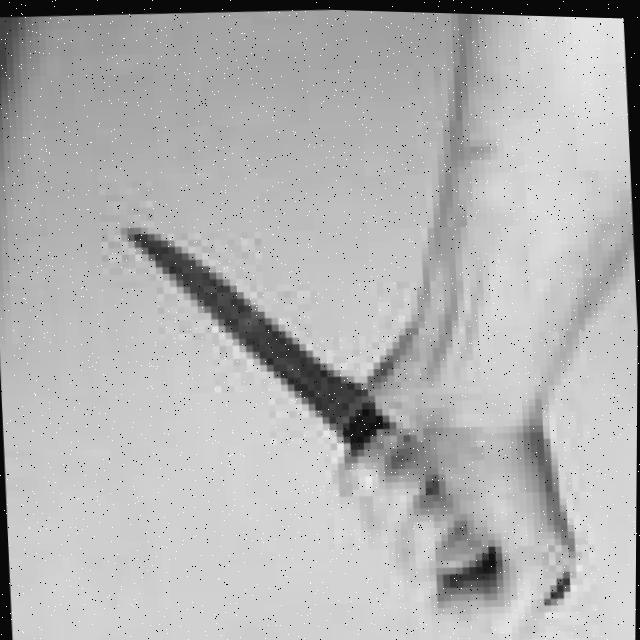knife: (122, 210, 395, 467)
